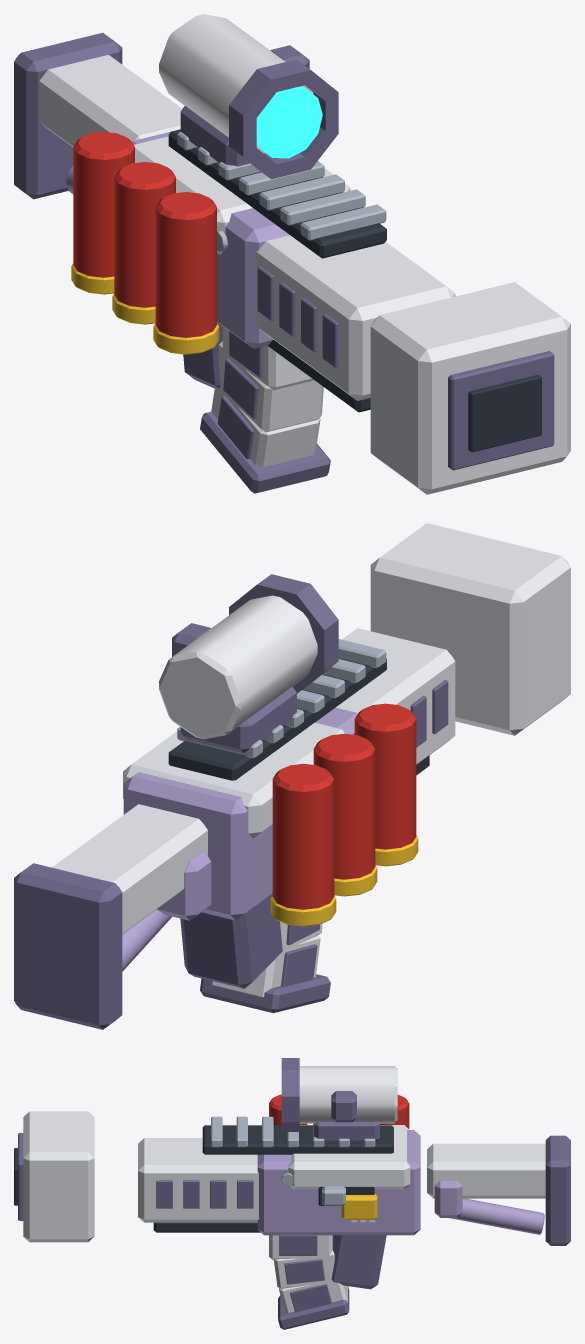
File: Future_Shotgun_v001.fbx
The picture shows the model from 3 angles, top to bottom: view 1: azimuth 30°, elevation 25°; view 2: azimuth 150°, elevation 25°; view 3: azimuth 270°, elevation 25°; orthographic projection. The views are drawn at different scales.
Visible parts, largest first — view 1: Future_Shotgun__RECEIVER_MESH, Future_Shotgun__MAGAZINE_MESH; view 2: Future_Shotgun__RECEIVER_MESH, Future_Shotgun__MAGAZINE_MESH; view 3: Future_Shotgun__RECEIVER_MESH, Future_Shotgun__MAGAZINE_MESH.
Boxes of the visible parts, bbox=[...] form: Future_Shotgun__RECEIVER_MESH: bbox=[14, 14, 570, 494]; Future_Shotgun__MAGAZINE_MESH: bbox=[200, 326, 330, 493]; Future_Shotgun__RECEIVER_MESH: bbox=[14, 523, 570, 1029]; Future_Shotgun__MAGAZINE_MESH: bbox=[200, 921, 330, 1013]; Future_Shotgun__RECEIVER_MESH: bbox=[14, 1058, 570, 1289]; Future_Shotgun__MAGAZINE_MESH: bbox=[269, 1235, 349, 1329].
Size of the model in its own units: 0.5975 by 1.11 by 2.19.
